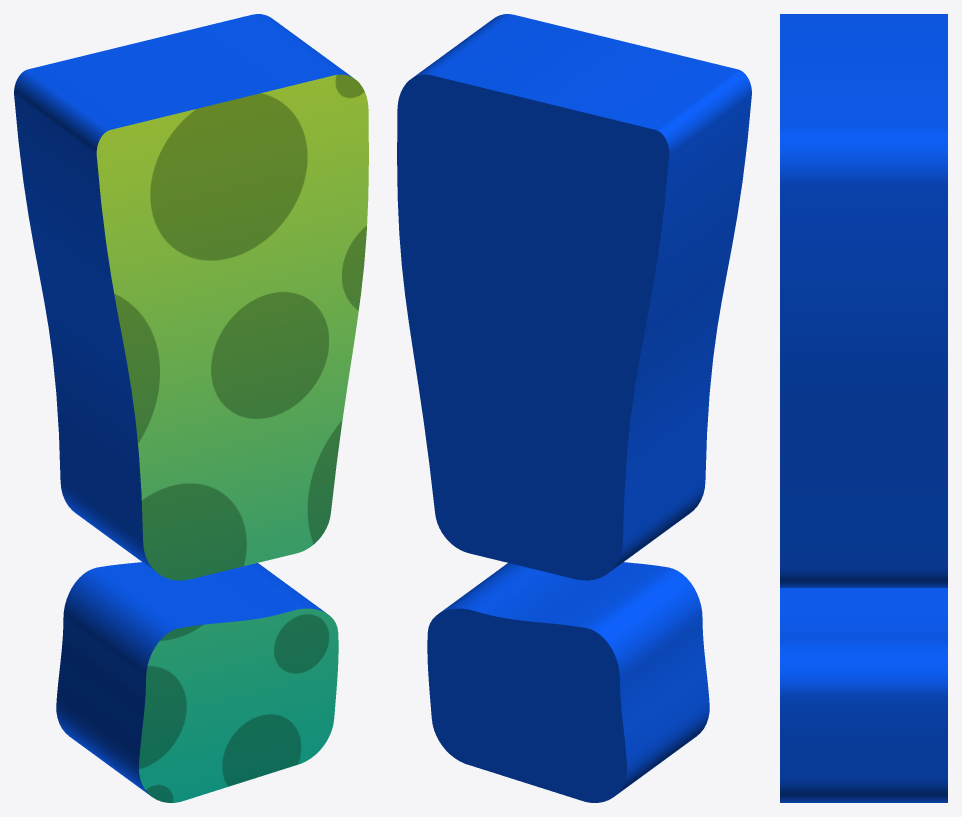
File: Exclamation.FBX
The picture shows the model from 3 angles, left to right: view 1: azimuth 30°, elevation 25°; view 2: azimuth 150°, elevation 25°; view 3: azimuth 270°, elevation 25°; orthographic projection.
Visible parts, largest first — view 1: Exclamation; view 2: Exclamation; view 3: Exclamation.
Part boxes in pixels (x1,y1,x2,y2): Exclamation: (14, 14, 368, 802); Exclamation: (397, 14, 751, 802); Exclamation: (780, 14, 947, 802).
Bounding box in the file's own units: 38.06 × 92.04 × 20.
Materials: 2 (1 with a texture image).
